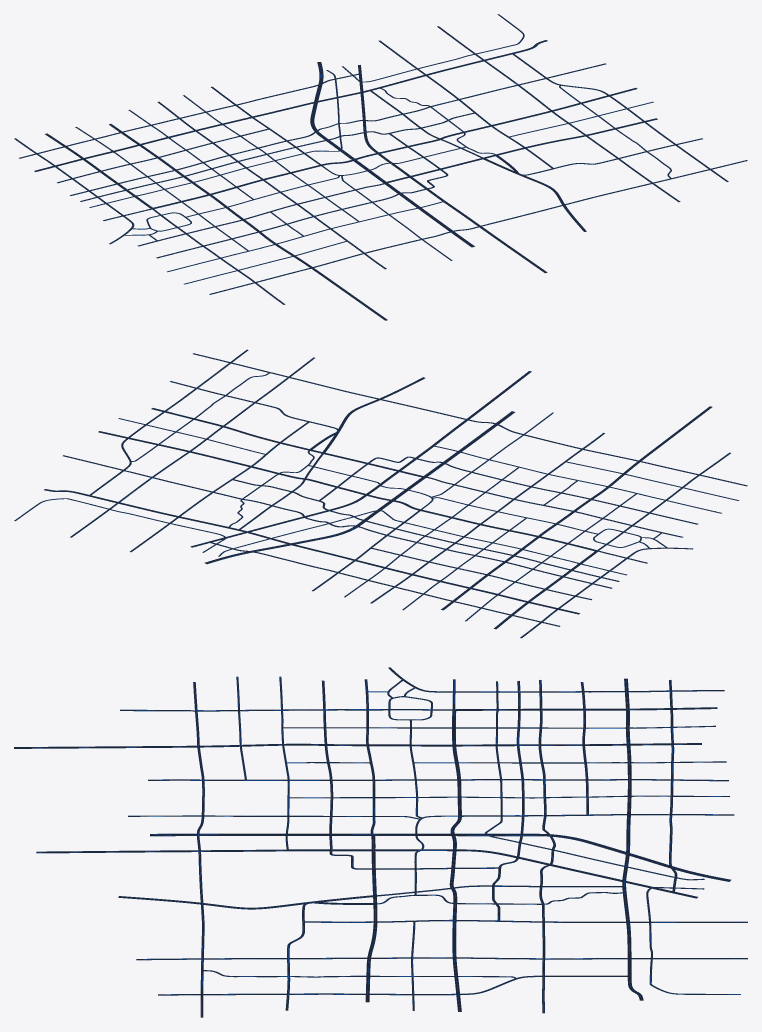
Rendered from Roads.glb.
3 renders of one model, top to bottom at view 1: azimuth 30°, elevation 25°; view 2: azimuth 150°, elevation 25°; view 3: azimuth 270°, elevation 25°, orthographic. The views are drawn at different scales.
Parts seen in each view (by area): view 1: ROADS; view 2: ROADS; view 3: ROADS.
Part boxes in pixels (bbox=[...]): ROADS: bbox=[14, 14, 747, 320]; ROADS: bbox=[14, 349, 747, 638]; ROADS: bbox=[14, 667, 747, 1017].
Bounding box in the file's own units: 19517 × 83.95 × 17280.
